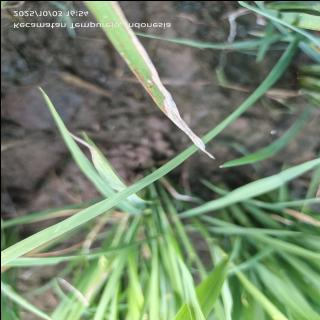Hawar-Daun: (126, 30, 213, 158), (134, 69, 155, 101)
